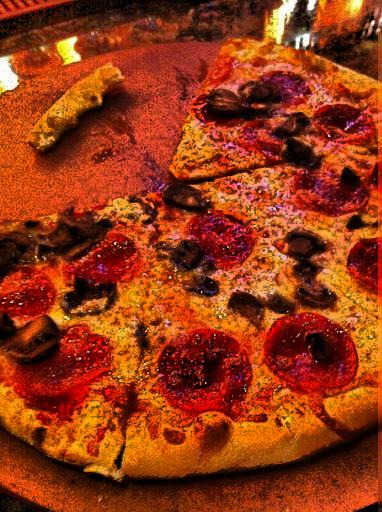pizza: (6, 65, 382, 466)
